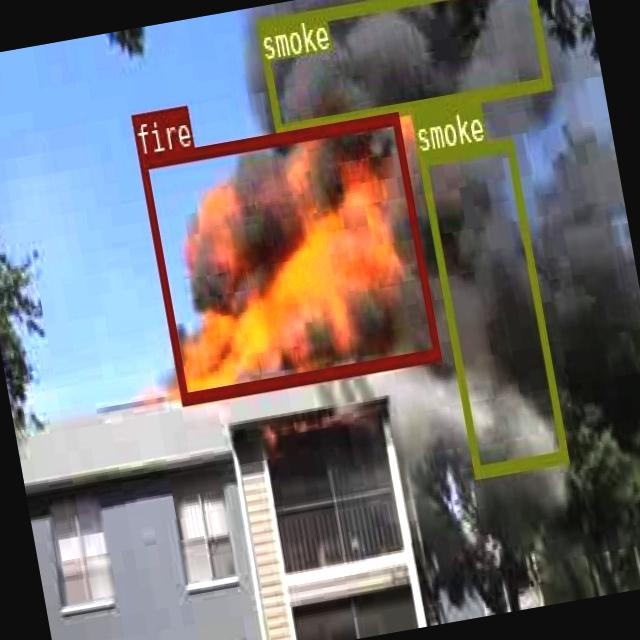fire: (137, 110, 440, 404)
smoke: (416, 136, 567, 476), (254, 0, 549, 134)
